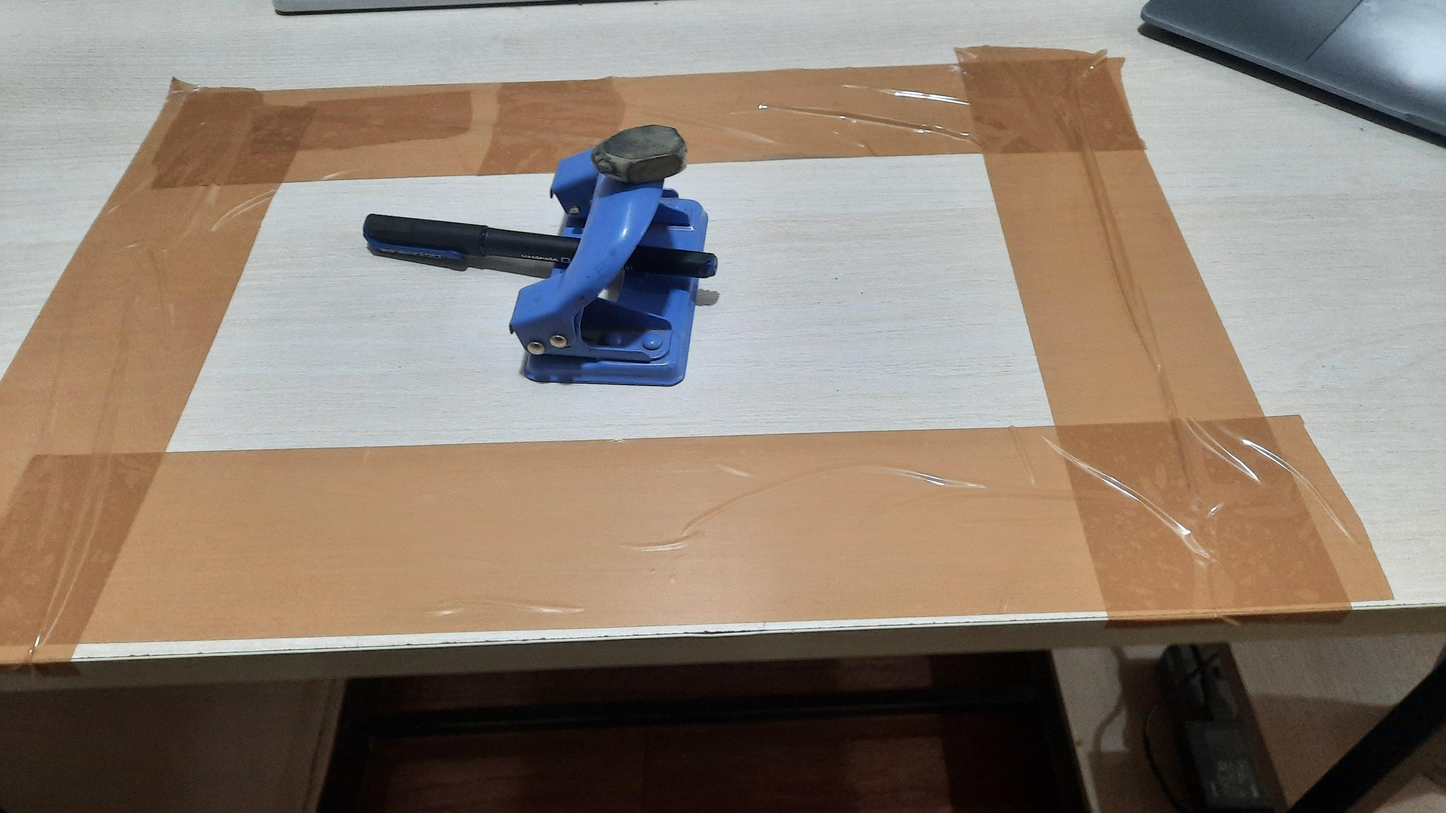Eraser: (591, 124, 688, 184)
Pen: (363, 213, 718, 279)
Punch: (509, 149, 710, 387)
